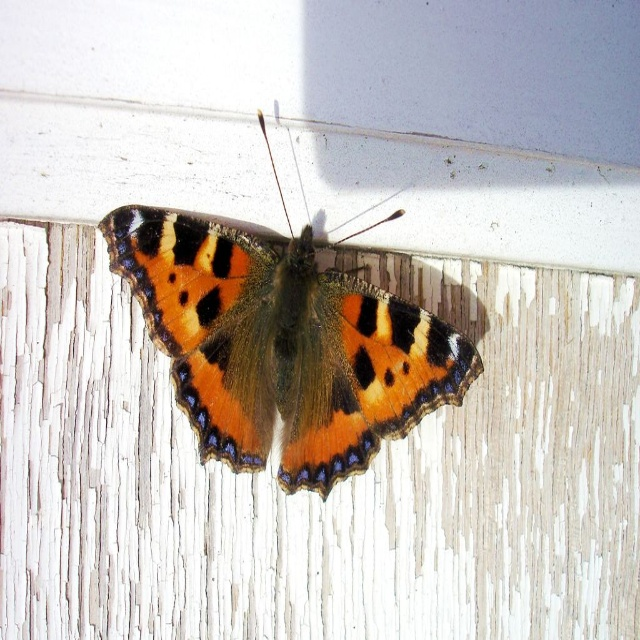Butterfly: (89, 106, 484, 495)
